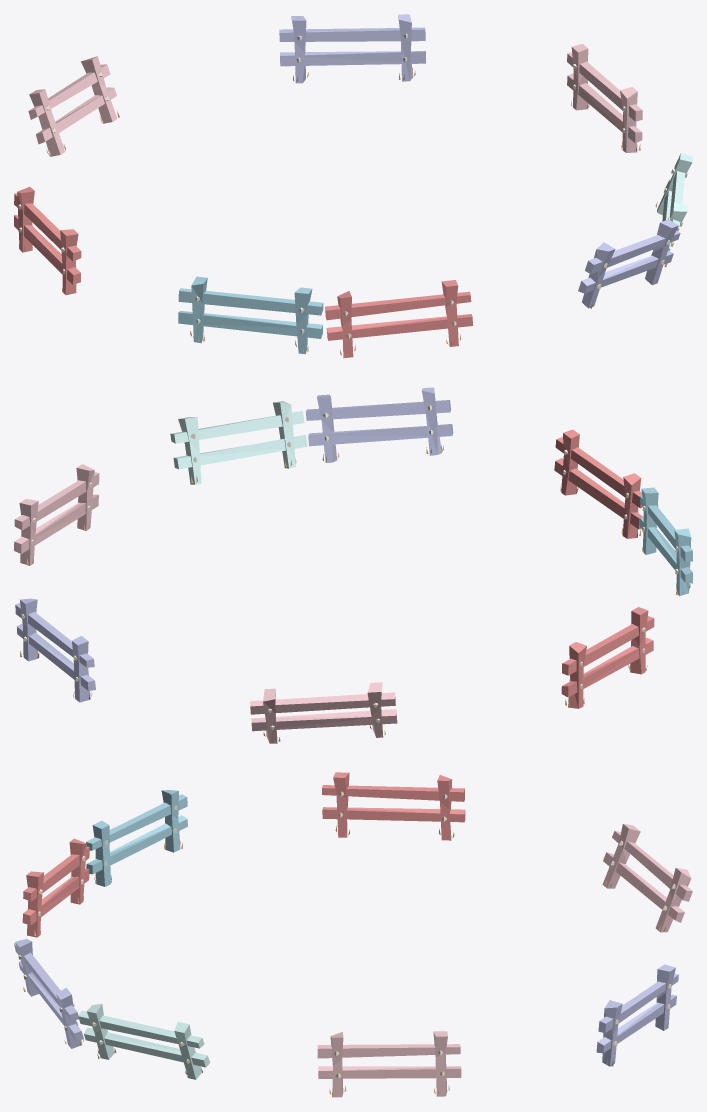
File: fence-mutiple-colors.gltf
The picture shows the model from 3 angles, top to bottom: view 1: azimuth 30°, elevation 25°; view 2: azimuth 150°, elevation 25°; view 3: azimuth 270°, elevation 25°; orthographic projection. The views are drawn at different scales.
Parts seen in each view (by area): view 1: Cube.075, Cube.080, Cube.076, Cube.073, Cube.079, Cube.077, Cube.074, Cube.078; view 2: Cube.077, Cube.073, Cube.078, Cube.074, Cube.076, Cube.079, Cube.080, Cube.075; view 3: Cube.079, Cube.074, Cube.078, Cube.075, Cube.073, Cube.080, Cube.076, Cube.077.
Part boxes in pixels (x1,y1,x2,y2): Cube.075: (178,276,323,354); Cube.080: (279,14,425,83); Cube.076: (325,280,473,358); Cube.073: (28,56,119,156); Cube.079: (567,43,642,152); Cube.077: (578,219,680,308); Cube.074: (14,186,81,295); Cube.078: (651,153,692,266); Cube.077: (305,387,453,462); Cube.073: (250,682,397,743); Cube.078: (170,401,307,484); Cube.074: (561,607,654,708); Cube.076: (554,429,643,538); Cube.079: (14,464,99,565); Cube.080: (15,598,95,702); Cube.075: (640,487,692,596); Cube.079: (317,1031,461,1097); Cube.074: (322,772,465,840); Cube.078: (78,1003,210,1079); Cube.075: (86,790,187,886); Cube.073: (602,823,692,932); Cube.080: (596,964,678,1066); Cube.076: (22,838,89,937); Cube.077: (14,939,83,1048).
Bounding box in the file's own units: 12.9 × 1.7 × 13.41.
